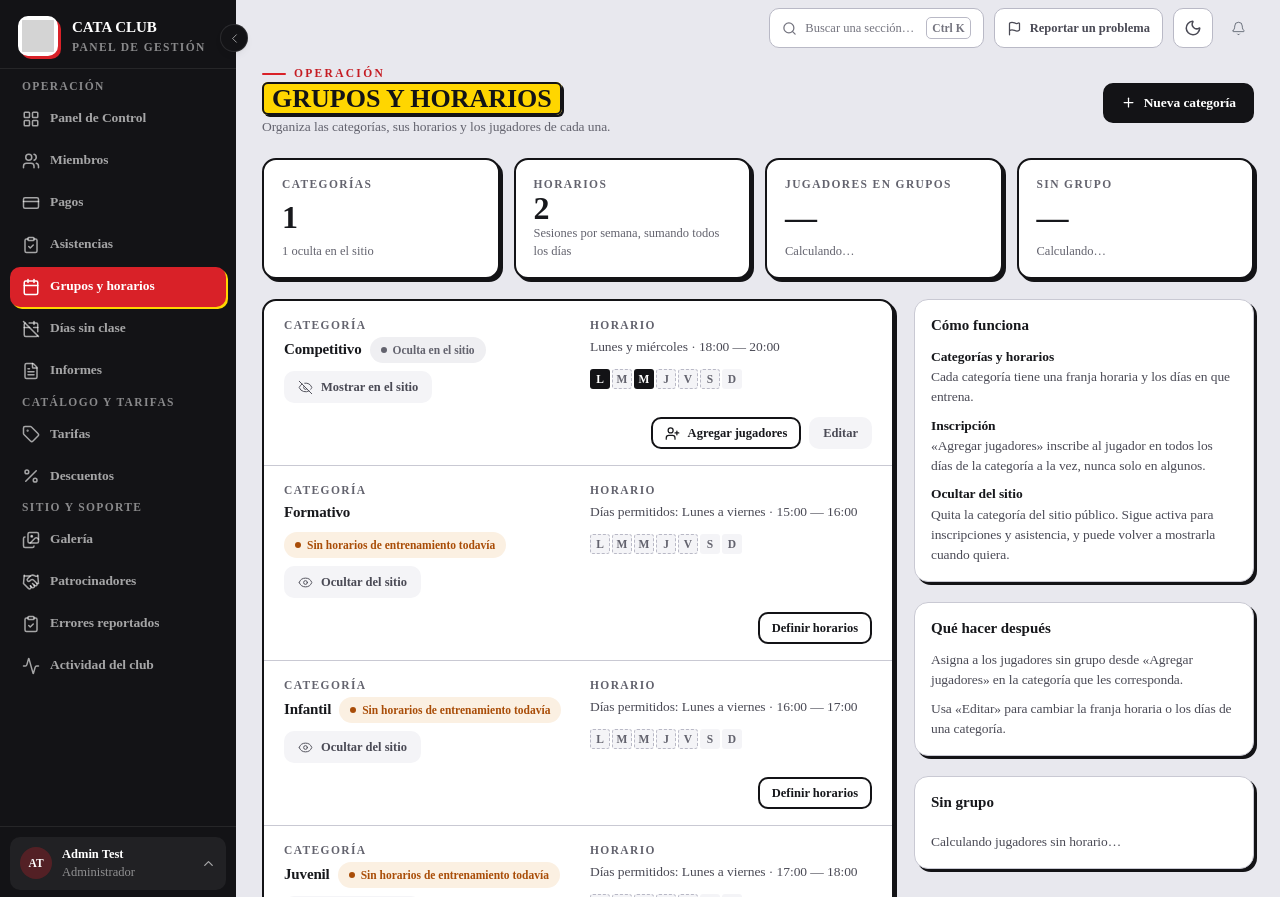
Test: GroupsPage — the landing-publication toggle › shows a published categoría on click, PATCHes false, and flips the card
The width and height of the screenshot is (1280, 897).
Click the button with aria-label "Mostrar Competitivo en el sitio".
click(358, 387)  # box [284,371,432,403]
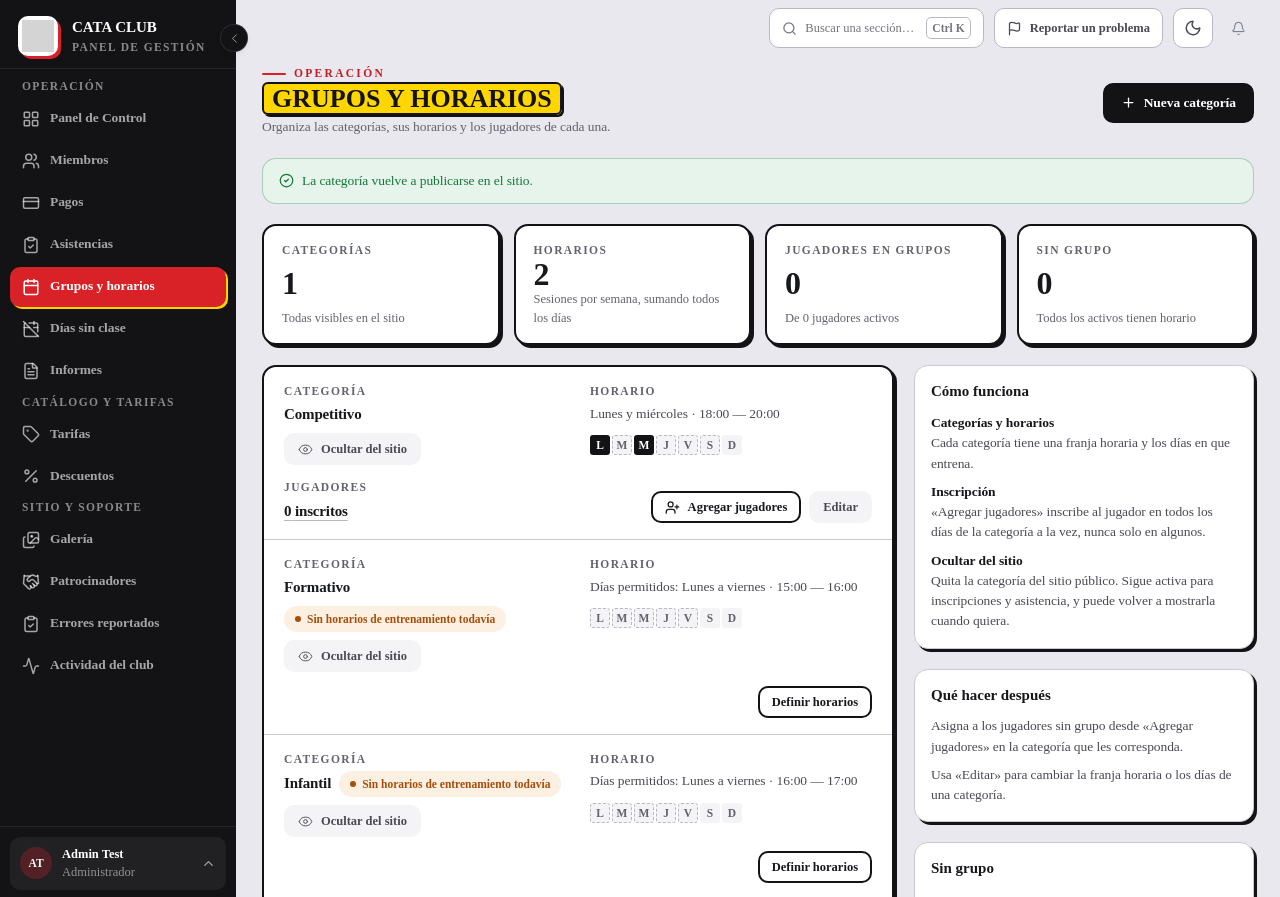
Expected: the text "oculta en el sitio" is gone
Expected: the button with aria-label "Ocultar Competitivo del sitio" is shown, [284,433,421,465]
Expected: the text "La categoría vuelve a publicarse en el sitio." is shown, [302,171,533,191]
